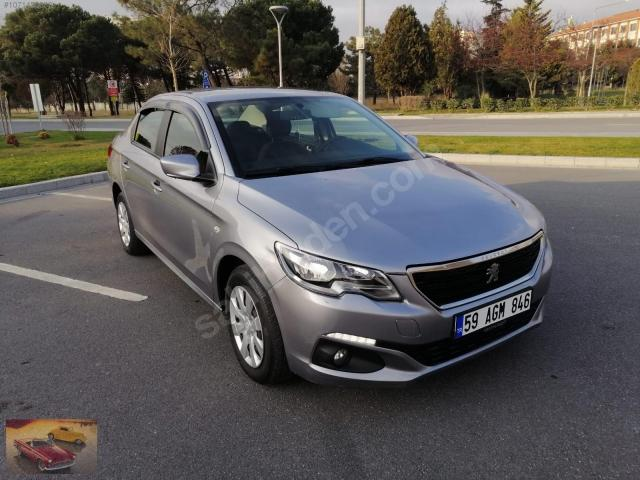plaka: (455, 290, 531, 338)
